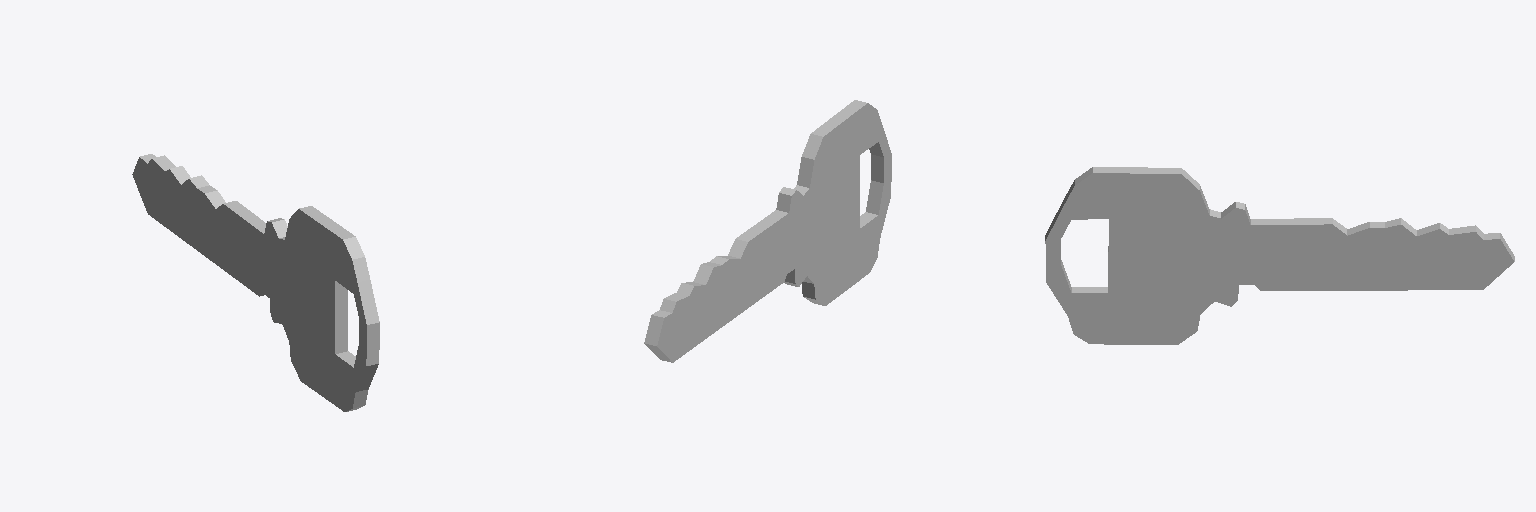
File: key2b.obj
The picture shows the model from 3 angles: view 1: azimuth 30°, elevation 25°; view 2: azimuth 150°, elevation 25°; view 3: azimuth 270°, elevation 25°; orthographic projection.
Parts seen in each view (by area): view 1: key2; view 2: key2; view 3: key2.
Part boxes in pixels (left/top/right/bottom): key2: left=132, top=154, right=379, bottom=411; key2: left=644, top=100, right=891, bottom=362; key2: left=1045, top=167, right=1514, bottom=344.
Bounding box in the file's own units: 0.1318 × 1.68 × 4.14.